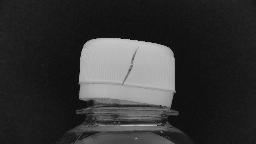Broken Cap: (63, 34, 185, 120)
